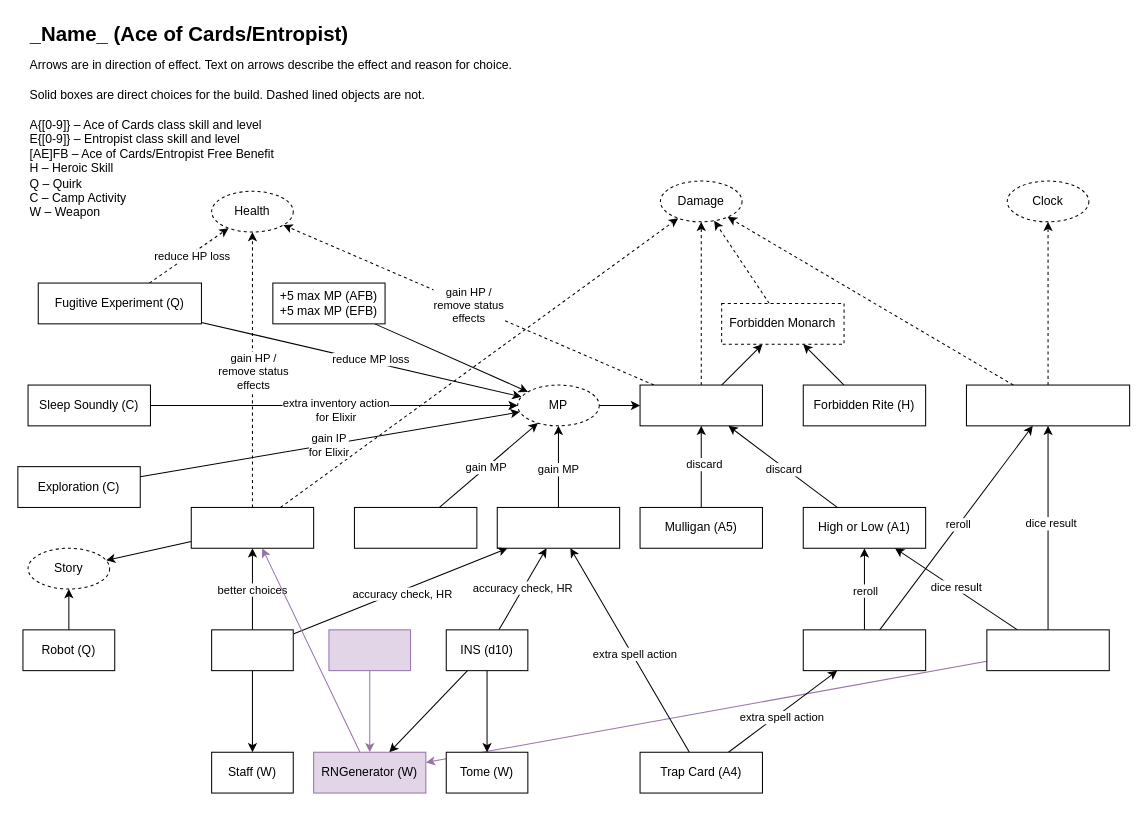
The diagram is 1148 pixels wide and 819 high, and some of its shapes have lost their labels. The centre of each missing label's shape, as x and y in pixels:
"Absorb MP (E5)" goes at [415,527].
"DEX(?)" goes at [369,650].
"Divination (E1)" goes at [864,650].
"Double or Nothing (A1)" goes at [1047,405].
"Drain Spirit (E1)" goes at [558,527].
"Gamble (E1)" goes at [252,527].
"Lucky Seven (E1)" goes at [1047,650].
"Magic Cards (A3)" goes at [700,405].
"WLP (d10)" goes at [252,650].
